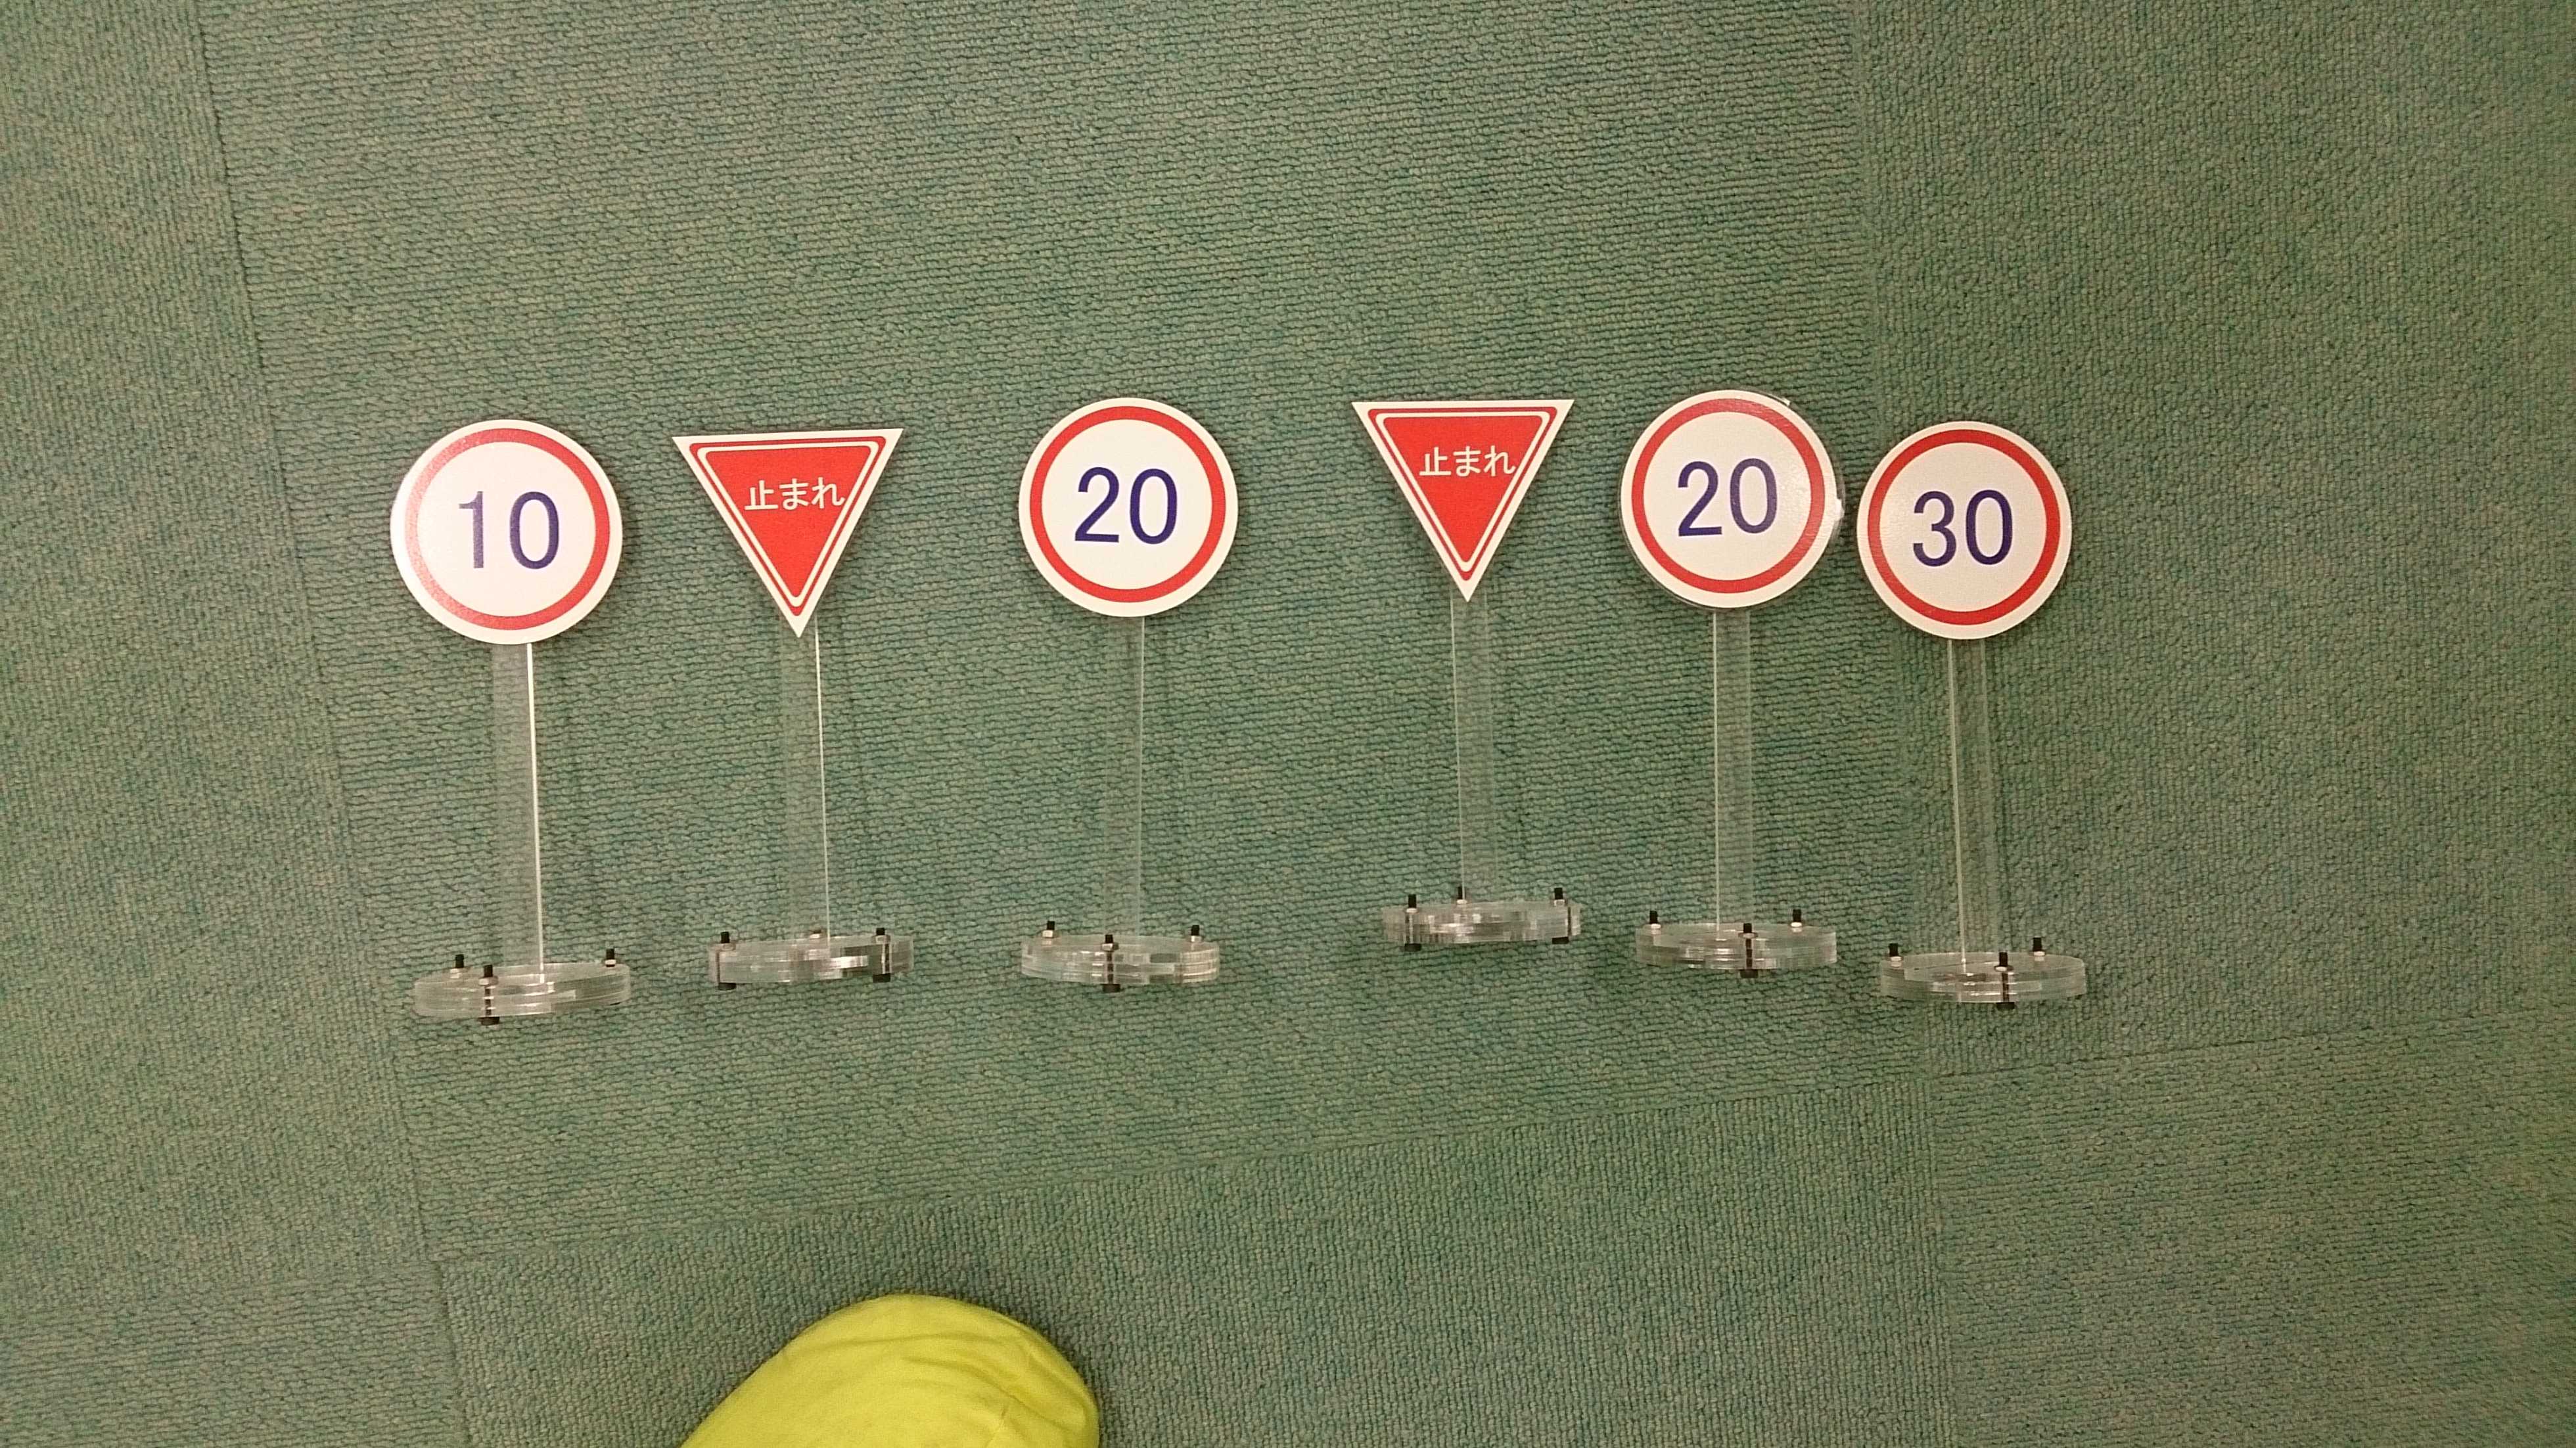speed_10: (389, 419, 623, 651)
speed_20: (1617, 389, 1840, 610), (1023, 400, 1242, 617)
speed_30: (1858, 421, 2070, 638)
stop: (674, 428, 901, 636), (1348, 403, 1578, 596)
